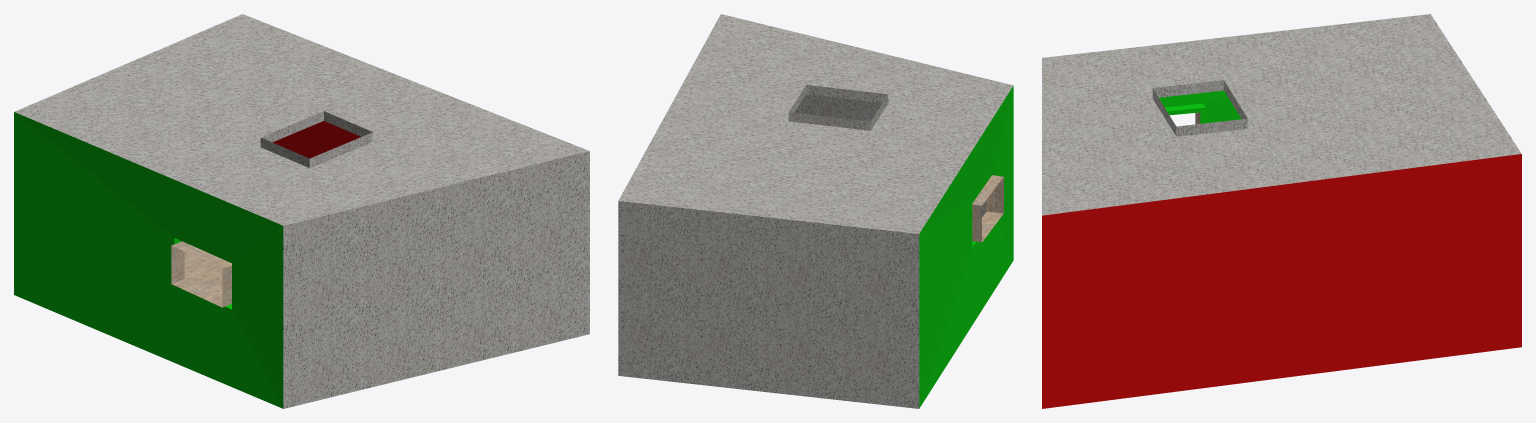
The model's file is Room1.fbx.
The picture shows the model from 3 angles, left to right: view 1: azimuth 30°, elevation 25°; view 2: azimuth 150°, elevation 25°; view 3: azimuth 270°, elevation 25°; orthographic projection. The views are drawn at different scales.
Visible parts, largest first — view 1: Room1; view 2: Room1; view 3: Room1.
Boxes of the visible parts, x1,y1,x2,y2 form: Room1: [14, 14, 589, 408]; Room1: [618, 14, 1013, 408]; Room1: [1042, 14, 1521, 408].
Size of the model in its own units: 562 by 265 by 565.
